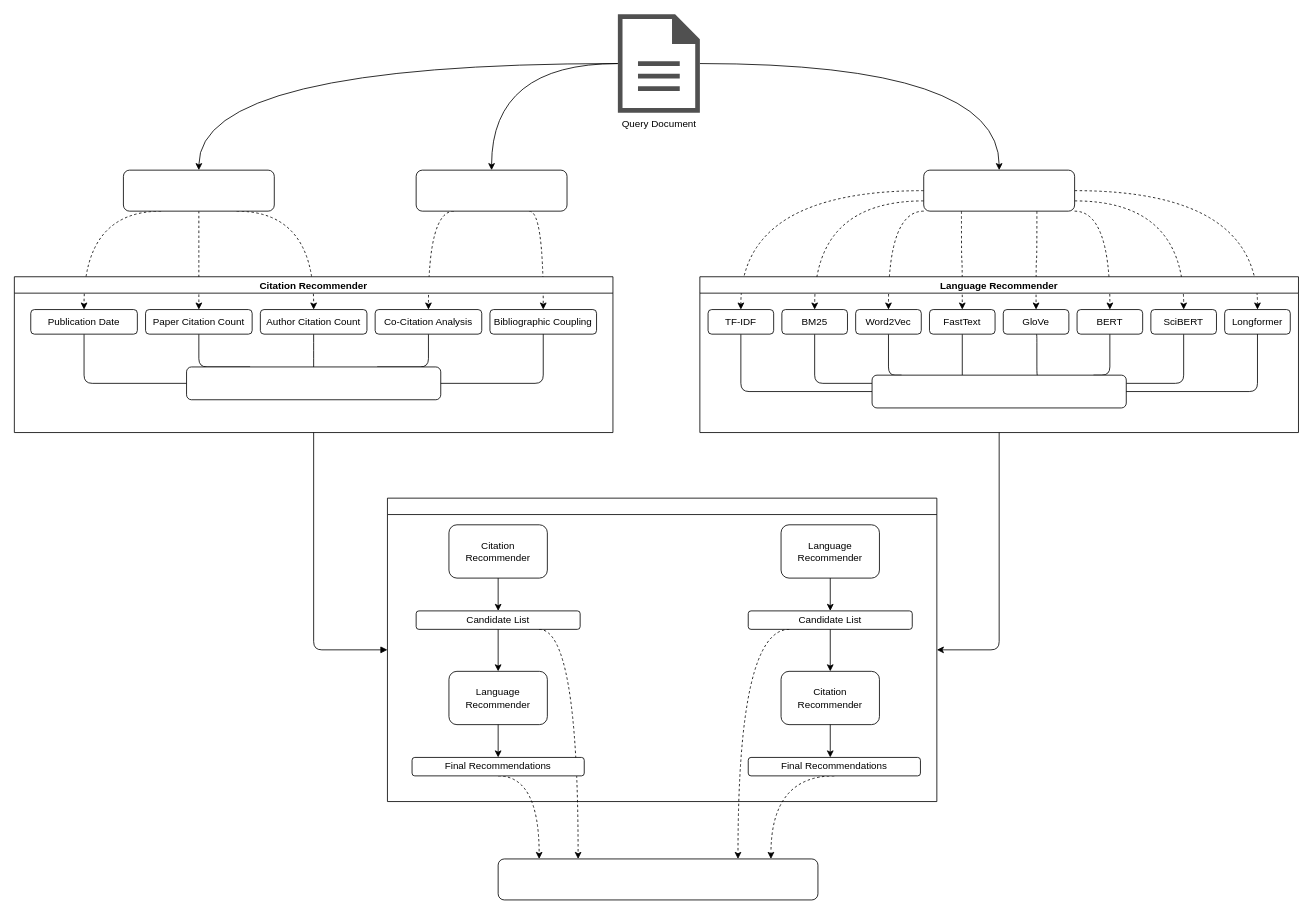
Some shapes in this 1313 by 914 pixel diagram are drawn without their labels. The shapes that lost their labels are listed below. From the top down, each one's box as (x1, y1, x2, y2) in pixels, then its label:
(123, 169, 274, 211): Metadata
(415, 169, 567, 211): Bibliography
(923, 169, 1075, 211): Abstract
(186, 366, 441, 400): Feature Weighting
(871, 374, 1126, 408): Choose One
(387, 497, 937, 802): Hybrid Recommender
(497, 858, 818, 900): Average Precision
